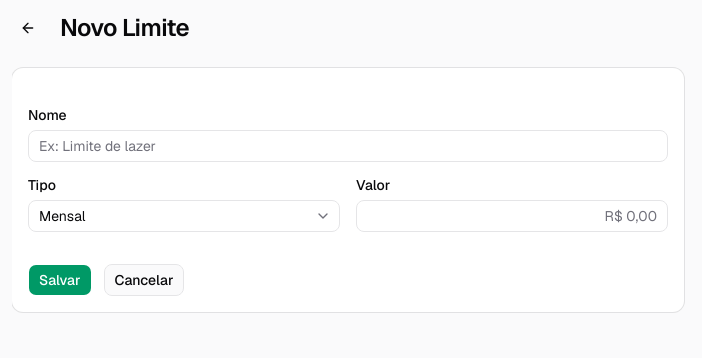
Test case: NovoLimitePage › exibe erro de validacao quando nome esta vazio
The width and height of the screenshot is (702, 358).
Type "500" into the field named "Valor" at (512, 216), box [356,200,668,232]
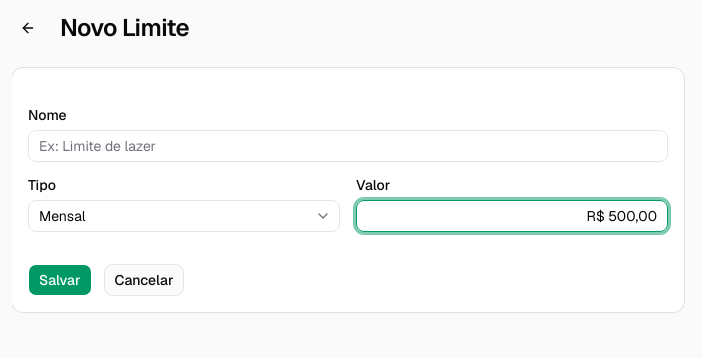
Click the button "Salvar" at (60, 280), box [28,264,92,296]
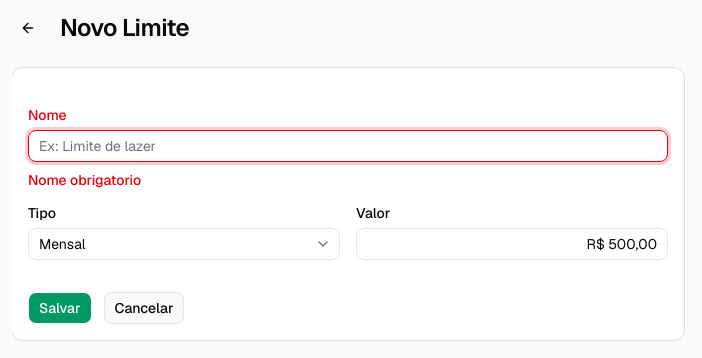
Check: the text "Nome obrigatorio" is shown, box [28,171,141,189]
